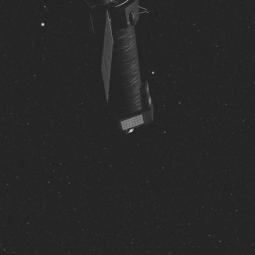xmm_newton: (80, 0, 170, 136)
